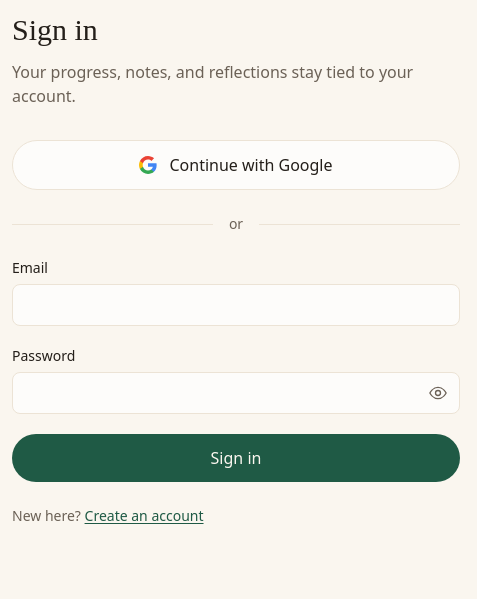
Test case: LoginPage › shows an error when Google sign-in cannot start
Click the button "Continue with Google": (236,165) [12, 140, 460, 190]
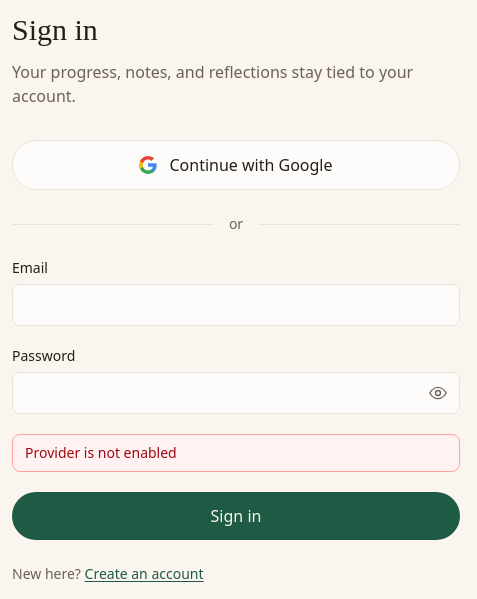
Now the message reads "Provider is not enabled", box [25, 443, 177, 462]
